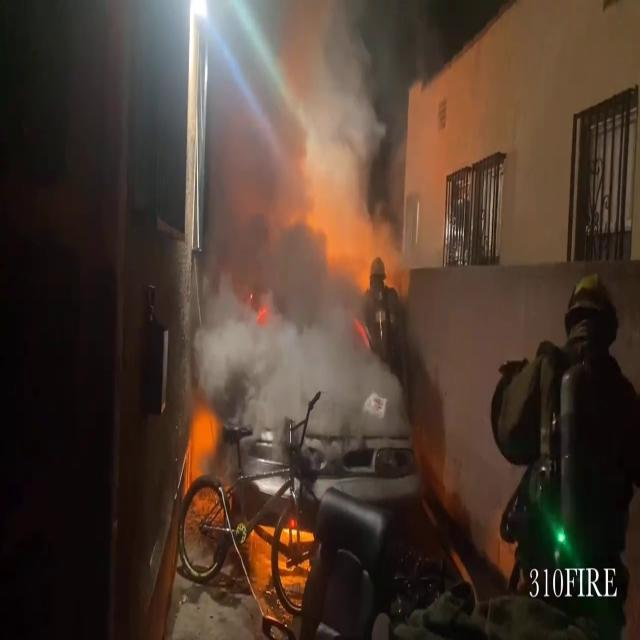Smoke: (189, 0, 462, 443)
